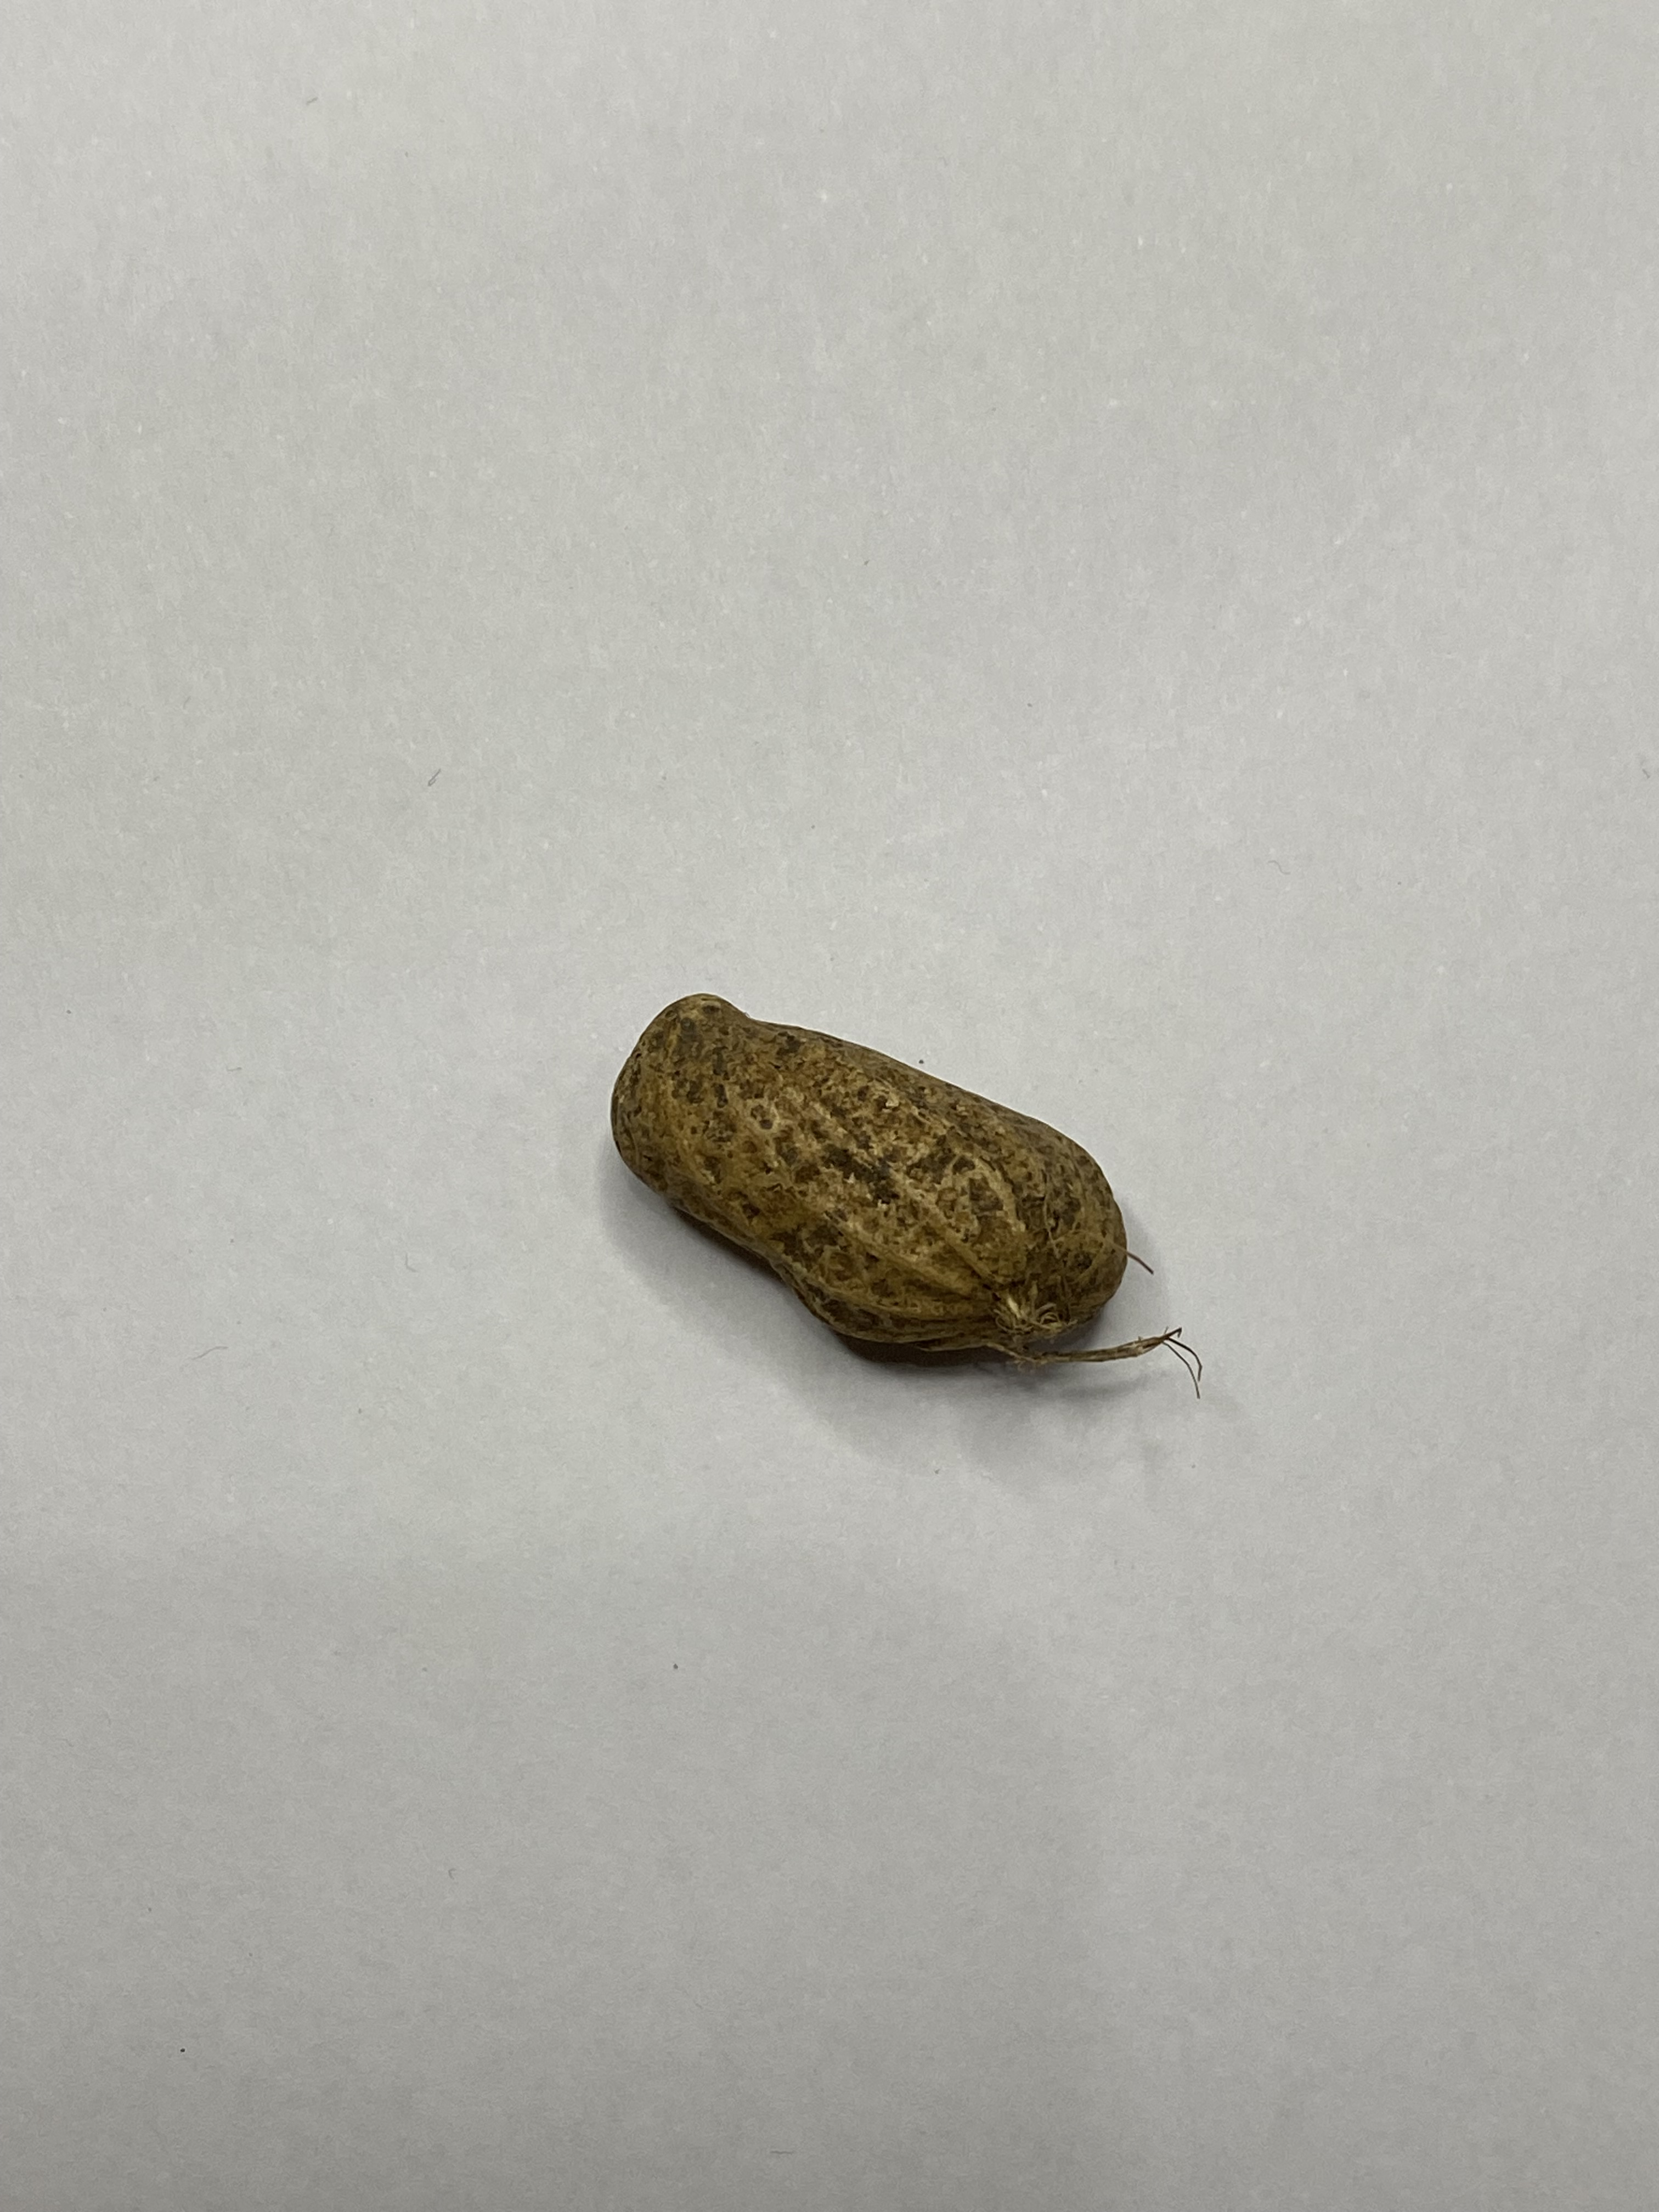kacang2: (570, 961, 1180, 1397)
